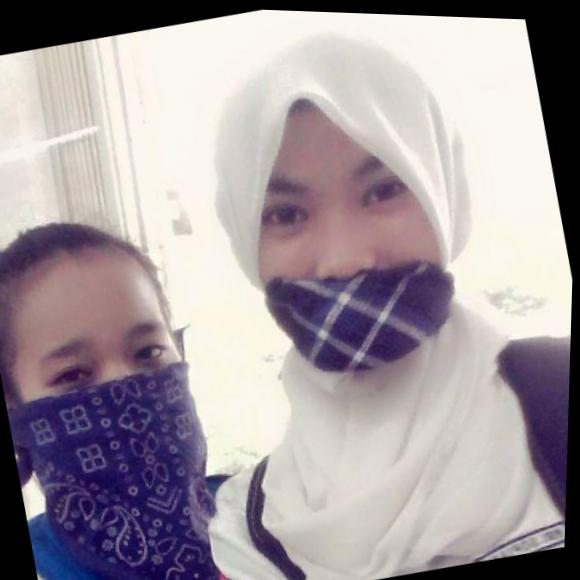OK: (1, 299, 214, 515)
WRONG: (229, 128, 475, 376)
